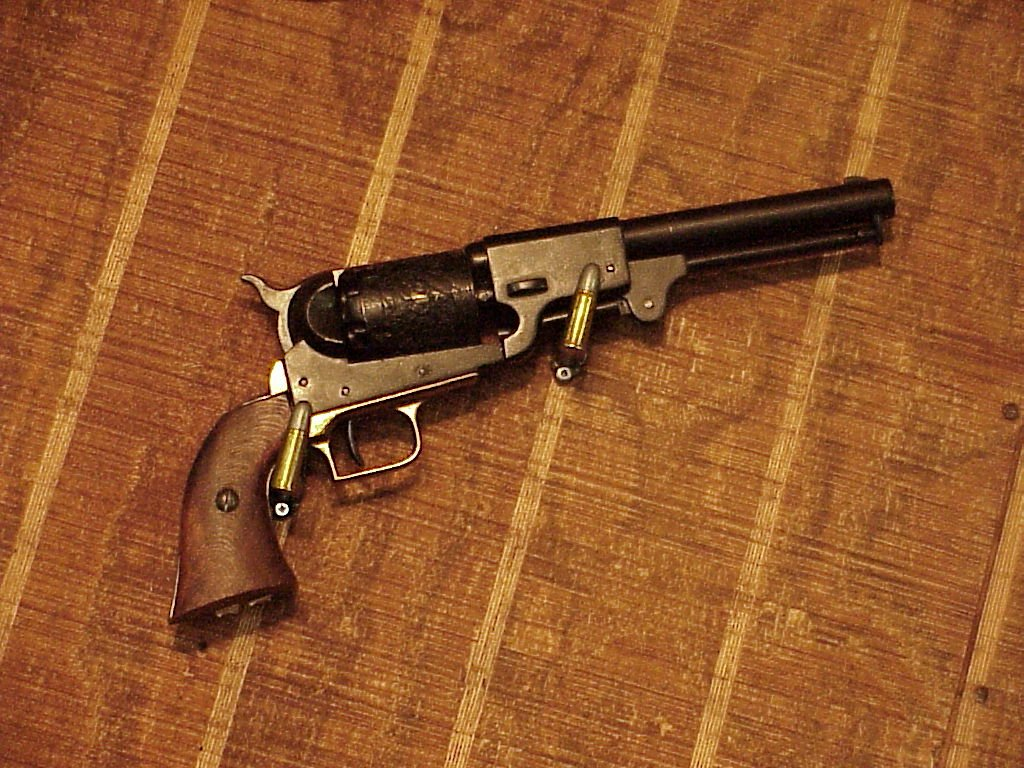gun: (167, 173, 896, 631)
